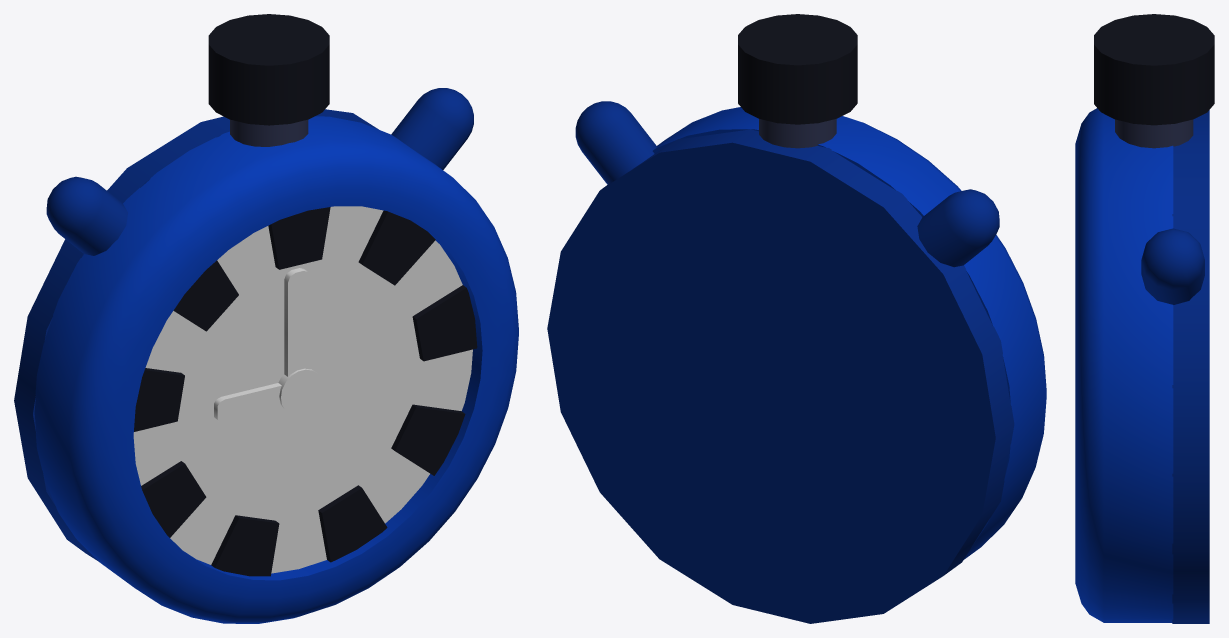
The model's file is Timer.FBX.
The picture shows the model from 3 angles, left to right: view 1: azimuth 30°, elevation 25°; view 2: azimuth 150°, elevation 25°; view 3: azimuth 270°, elevation 25°; orthographic projection.
Parts seen in each view (by area): view 1: Timer_osnova, Timer_arrows; view 2: Timer_osnova; view 3: Timer_osnova.
Boxes of the visible parts, x1,y1,x2,y2 form: Timer_osnova: (14,14,518,623); Timer_arrows: (214,268,323,422); Timer_osnova: (547,14,1046,623); Timer_osnova: (1075,14,1214,623).
Size of the model in its own units: 34.88 by 41.29 by 9.3.
